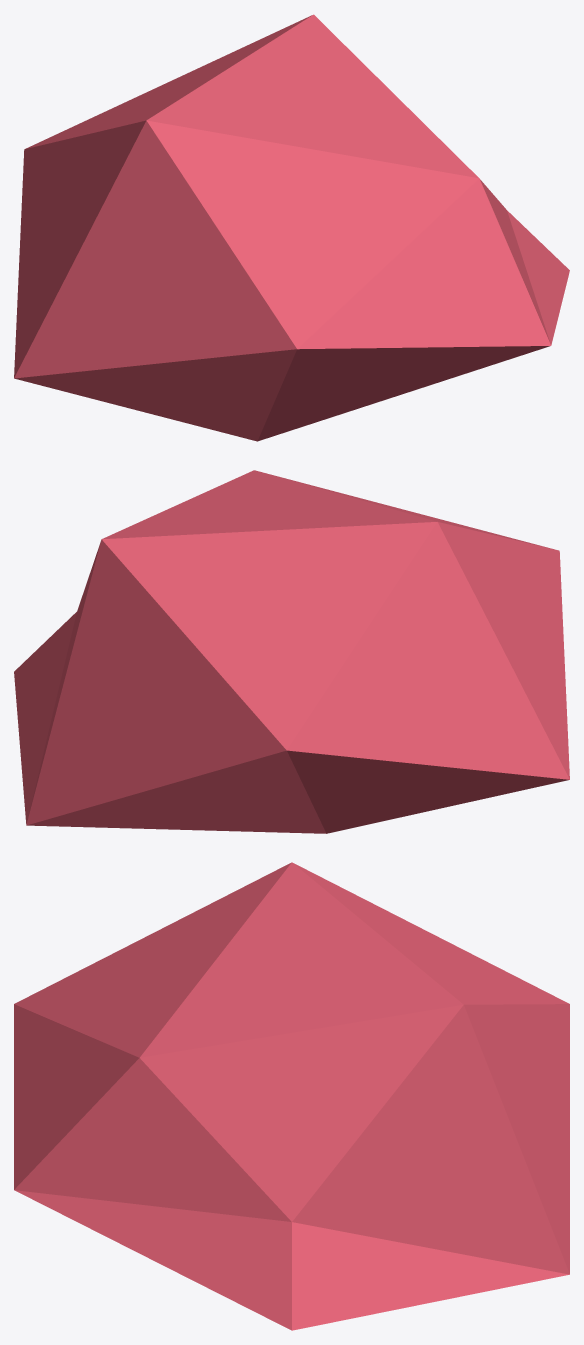
The model's file is jewel.fbx.
3 renders of one model, top to bottom at view 1: azimuth 30°, elevation 25°; view 2: azimuth 150°, elevation 25°; view 3: azimuth 270°, elevation 25°, orthographic.
Parts seen in each view (by area): view 1: Ruby; view 2: Ruby; view 3: Ruby.
Part boxes in pixels (bbox=[...]): Ruby: bbox=[14, 14, 569, 441]; Ruby: bbox=[14, 470, 569, 833]; Ruby: bbox=[14, 862, 569, 1330].
Bounding box in the file's own units: 77.45 × 36.06 × 65.86.
